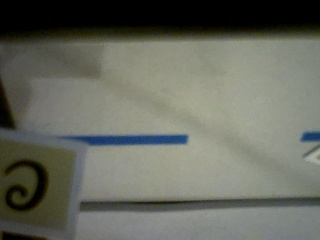C: (0, 140, 78, 231)
